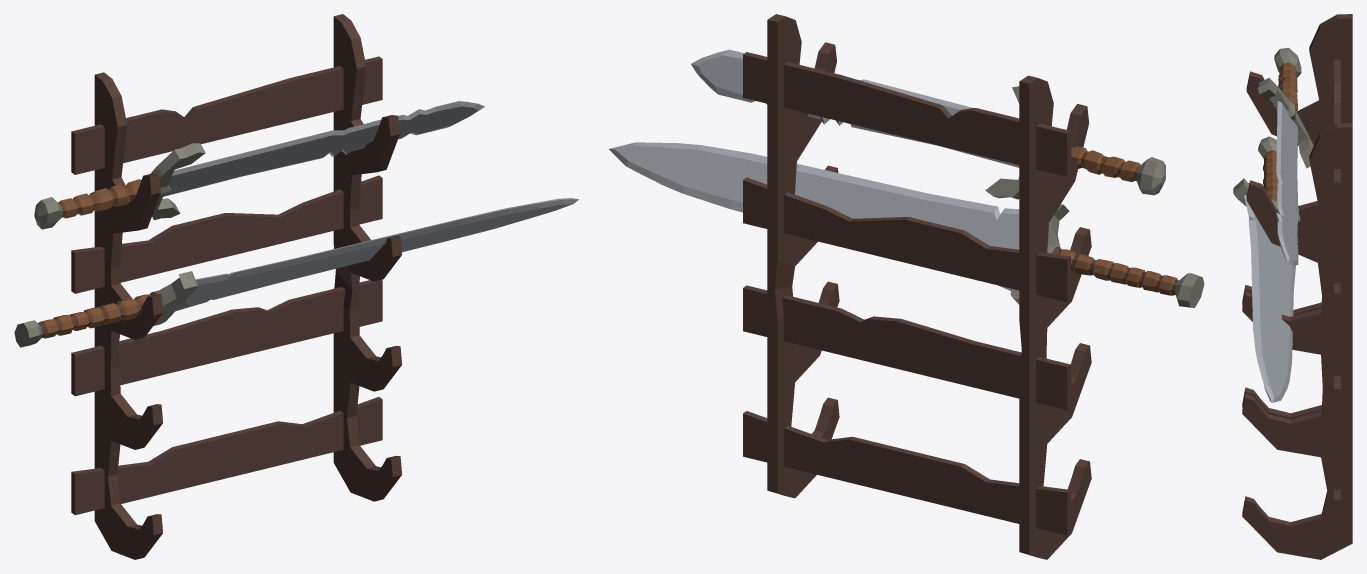
Rendered from Sword_WallMount.glb.
3 views of the same model, side by side, from view 1: azimuth 30°, elevation 25°; view 2: azimuth 150°, elevation 25°; view 3: azimuth 270°, elevation 25° (orthographic). The views are drawn at different scales.
Visible parts, largest first — view 1: Sword_WallMount; view 2: Sword_WallMount; view 3: Sword_WallMount.
Boxes of the visible parts, box(x1,y1,x2,y2) form: Sword_WallMount: box(14, 14, 578, 559); Sword_WallMount: box(609, 14, 1204, 559); Sword_WallMount: box(1233, 14, 1352, 559).
Bounding box in the file's own units: 0.5327 × 0.4234 × 0.1058.
